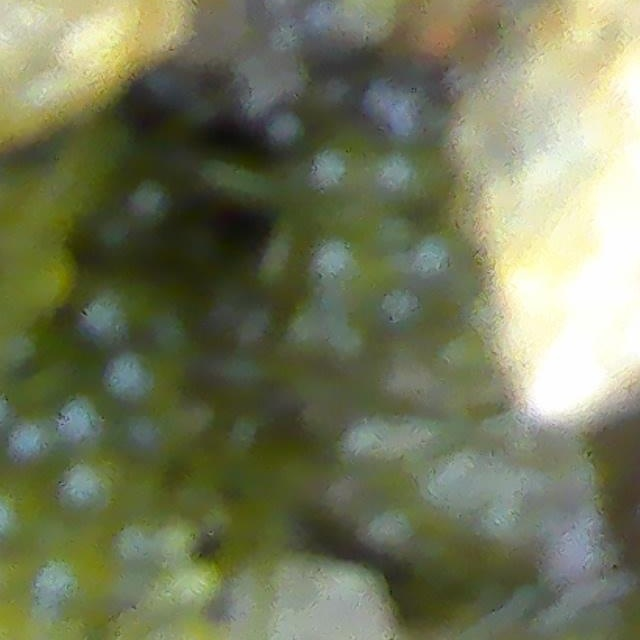SeaGrape: (34, 531, 117, 616), (56, 453, 128, 523), (0, 474, 49, 549)
